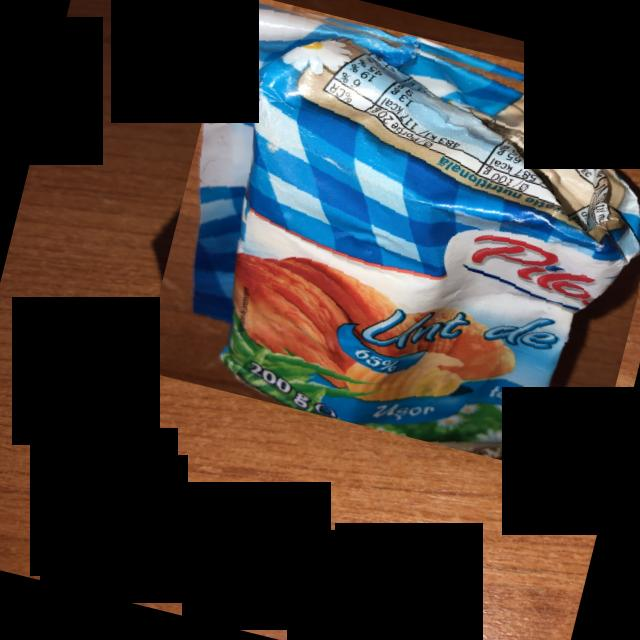butter: (139, 0, 640, 482)
